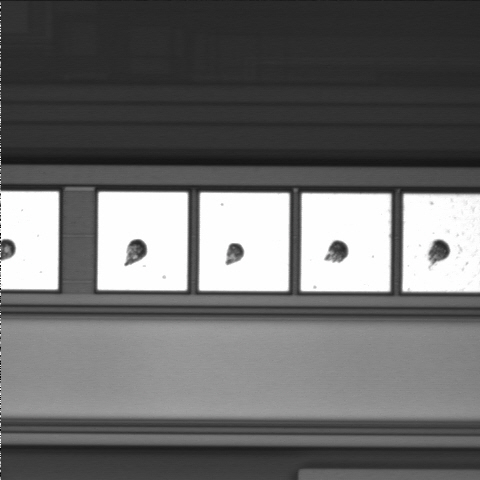pad: (98, 192, 188, 291), (199, 193, 289, 291), (301, 193, 391, 291)
